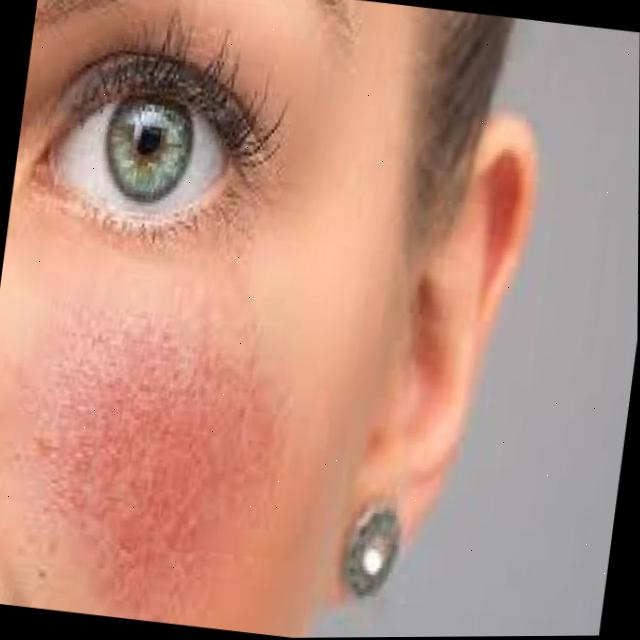Rosacea: (12, 295, 315, 637)
